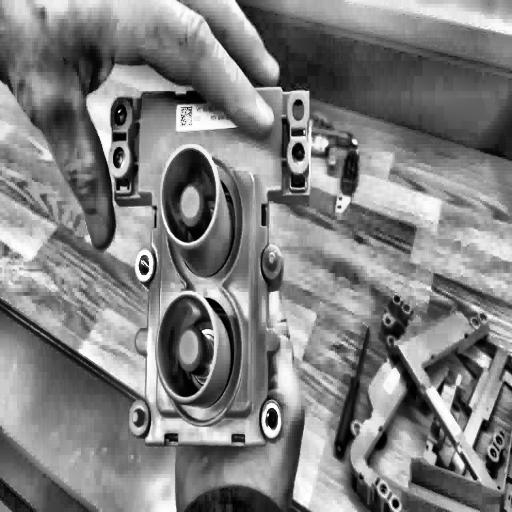connector: (108, 84, 310, 454)
